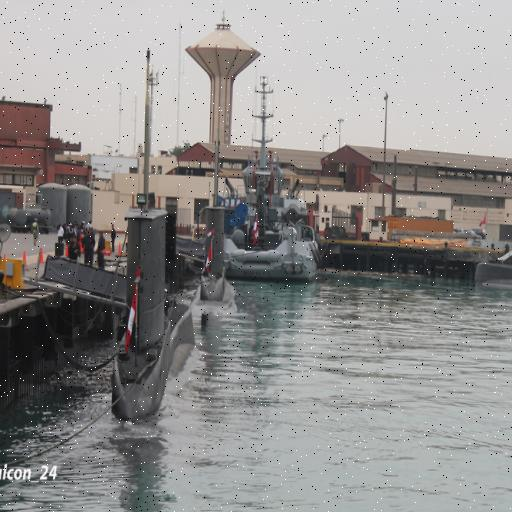submarine: (116, 181, 166, 431), (186, 184, 241, 313)
